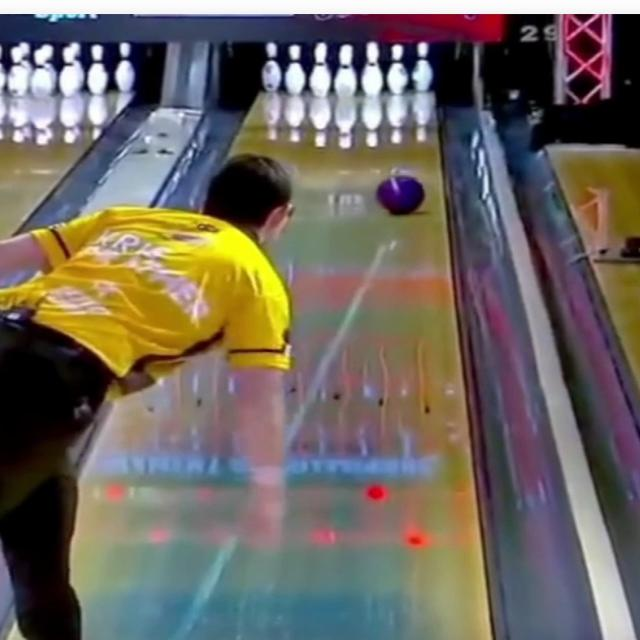alley: (73, 80, 489, 639)
balls: (377, 175, 423, 214)
bottle: (261, 41, 433, 97)
